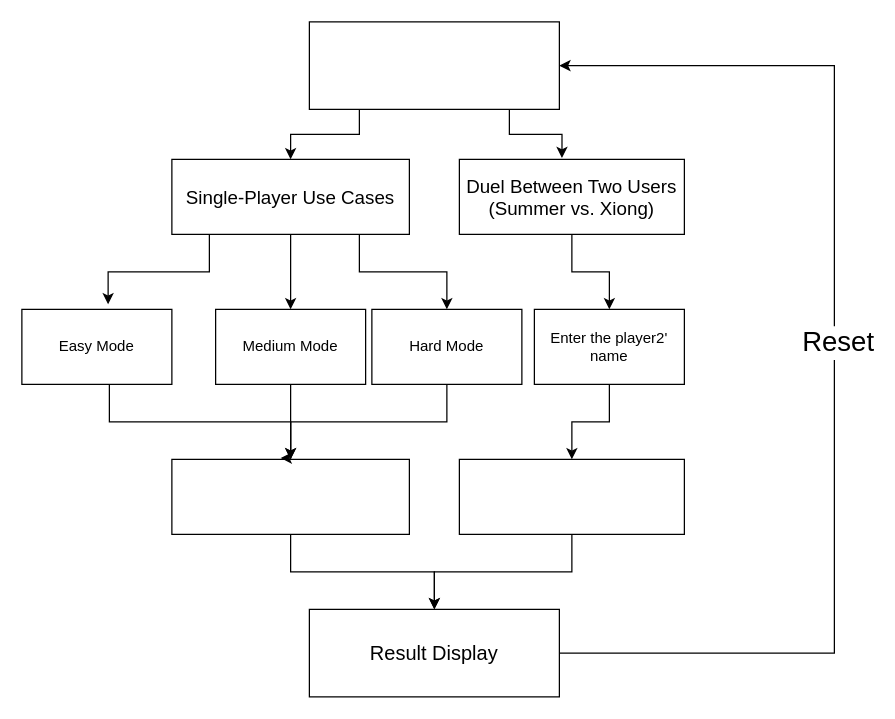
Image size: 895x719. Some labels were removed from this diagram. Here are the shapes that lost their labels. From the top down, the centre of each, then its label:
pixel 433 65: Enter the player game (Enter the player1's name)
pixel 290 496: Play with AI (Computer)
pixel 571 496: Two Users Playing via one computer
